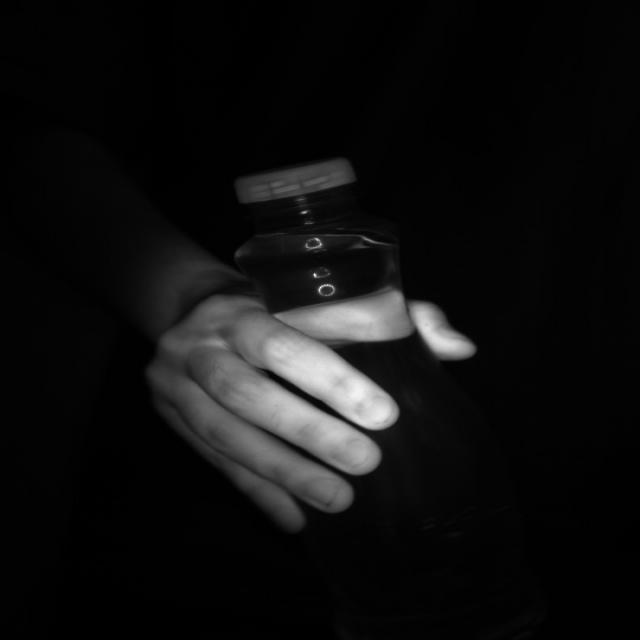Not Good: (237, 158, 357, 214)
